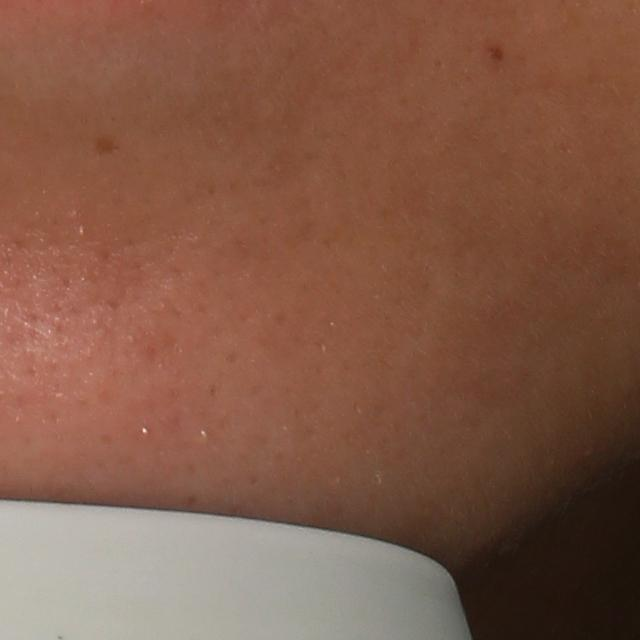nevus: (484, 43, 504, 65)
